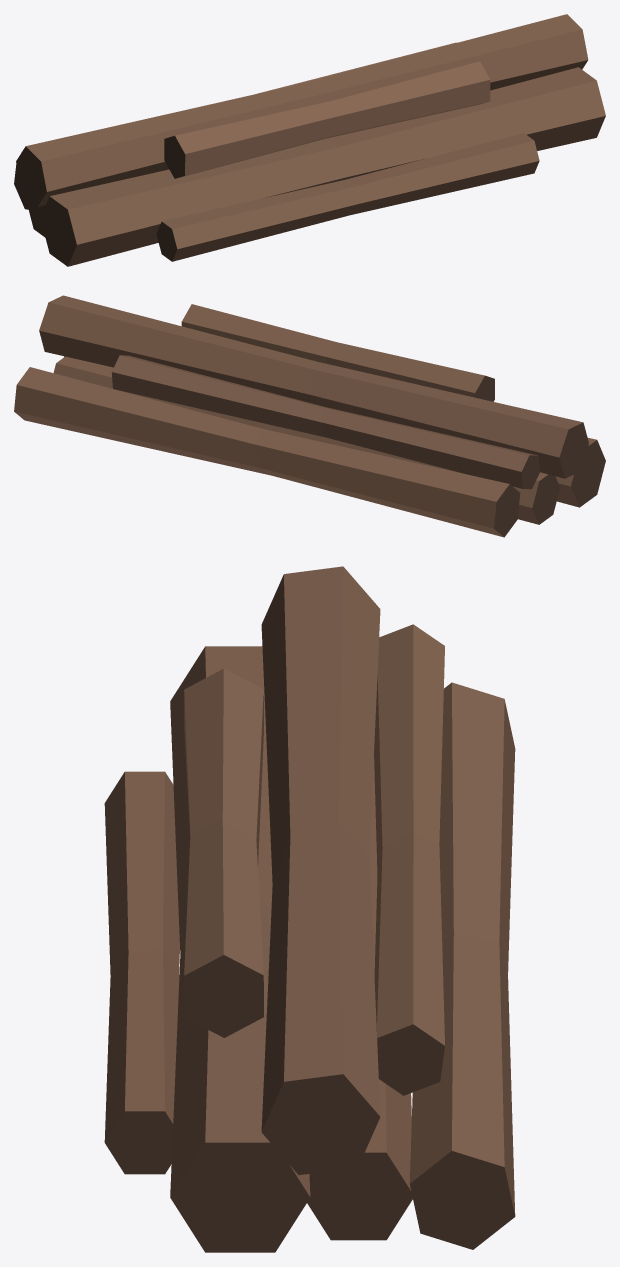
The model's file is Log_8_Light_Brown.fbx.
3 views of the same model, one above another, from view 1: azimuth 30°, elevation 25°; view 2: azimuth 150°, elevation 25°; view 3: azimuth 270°, elevation 25° (orthographic). The views are drawn at different scales.
Parts seen in each view (by area): view 1: Log_8_Light_Brown; view 2: Log_8_Light_Brown; view 3: Log_8_Light_Brown.
Boxes of the visible parts, box(x1,y1,x2,y2) form: Log_8_Light_Brown: box(14, 14, 605, 266); Log_8_Light_Brown: box(14, 295, 605, 537); Log_8_Light_Brown: box(104, 566, 515, 1252).
Bounding box in the file's own units: 431 × 76.27 × 147.
